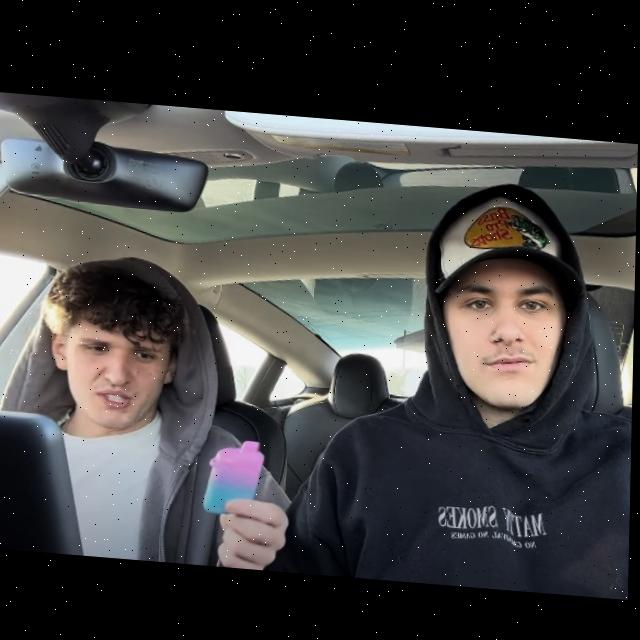vape: (205, 434, 267, 513)
